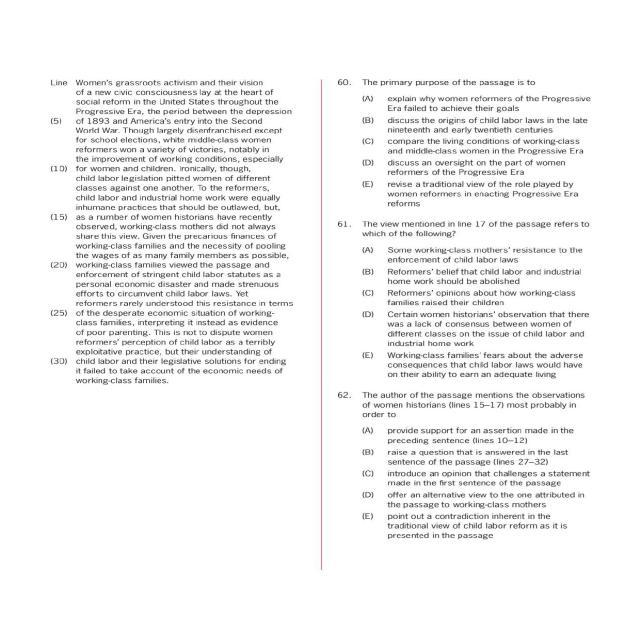Answer_Block: (324, 245, 600, 378), (324, 419, 600, 541), (324, 92, 600, 212)
Instruction: (36, 78, 311, 534)
Question_Answer_Block: (324, 214, 600, 377), (324, 386, 600, 542), (324, 76, 600, 212)
Question_Block: (324, 386, 600, 418), (324, 214, 600, 242), (324, 76, 600, 92)
Question_Paper_Area: (324, 76, 600, 542), (36, 78, 311, 534)
